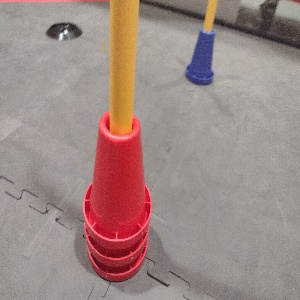Blue_1: (185, 28, 216, 85)
Red_3: (82, 107, 152, 282)
